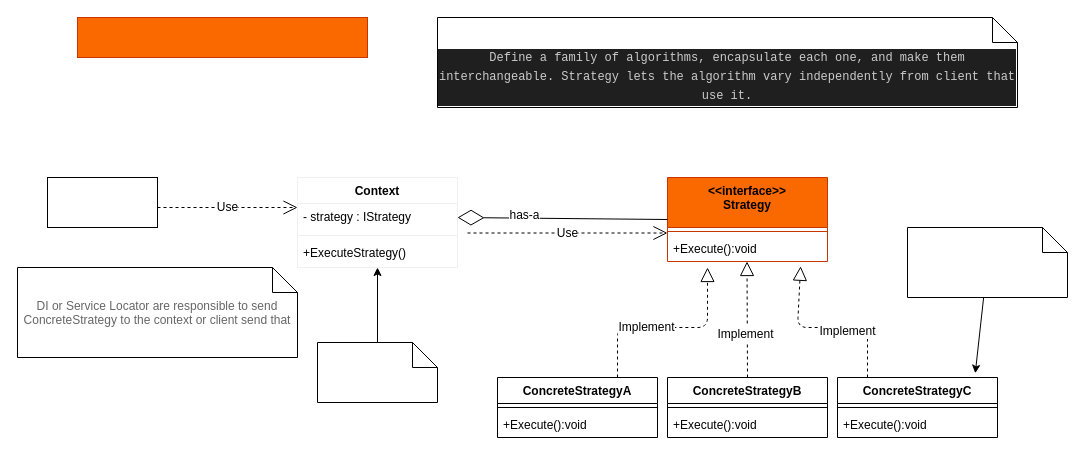
This 1085x458 diagram has some shape labels left out. The shapes that lost their labels are listed below. From the top down, each one's centre as x and y in pixels, then its label:
At (222,37): "Strategy Design Pattern".
At (102,202): "client".
At (987,262): "Interchangeable logic or algorithms".
At (377,372): "strategy.Execute();".
